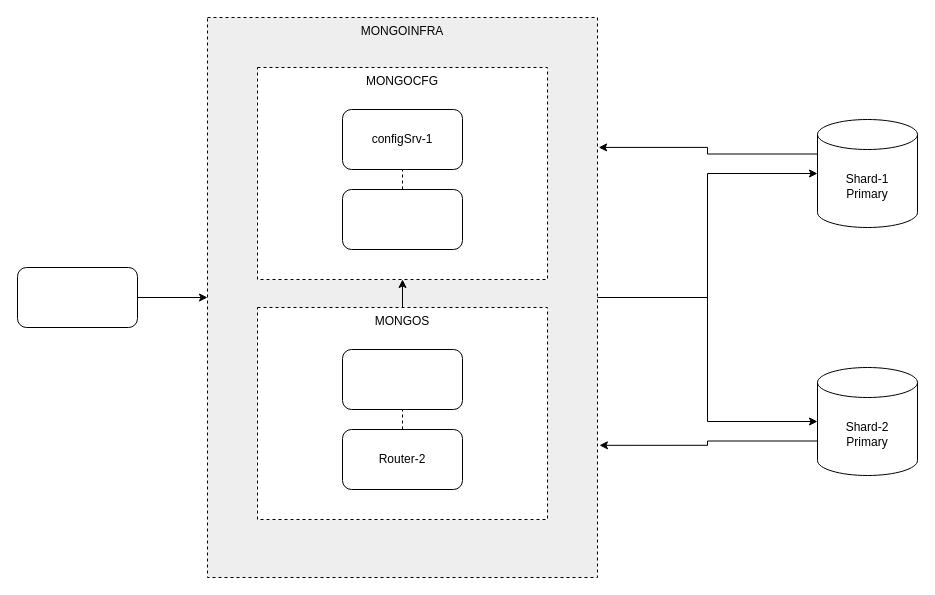
This 935x595 diagram has some shape labels left out. Each missing label, with the centre of its shape:
"configSrv-2" goes at point 402,219.
"pymongo-api" goes at point 77,297.
"Router-1" goes at point 402,379.
